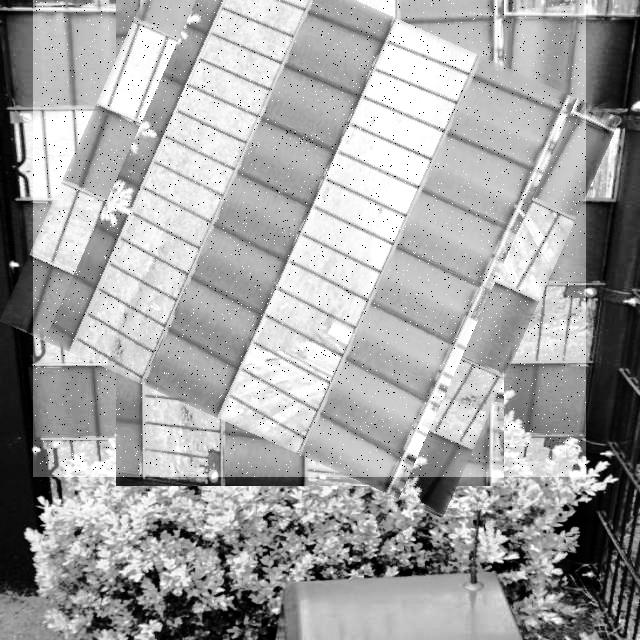fences: (33, 0, 586, 477)
